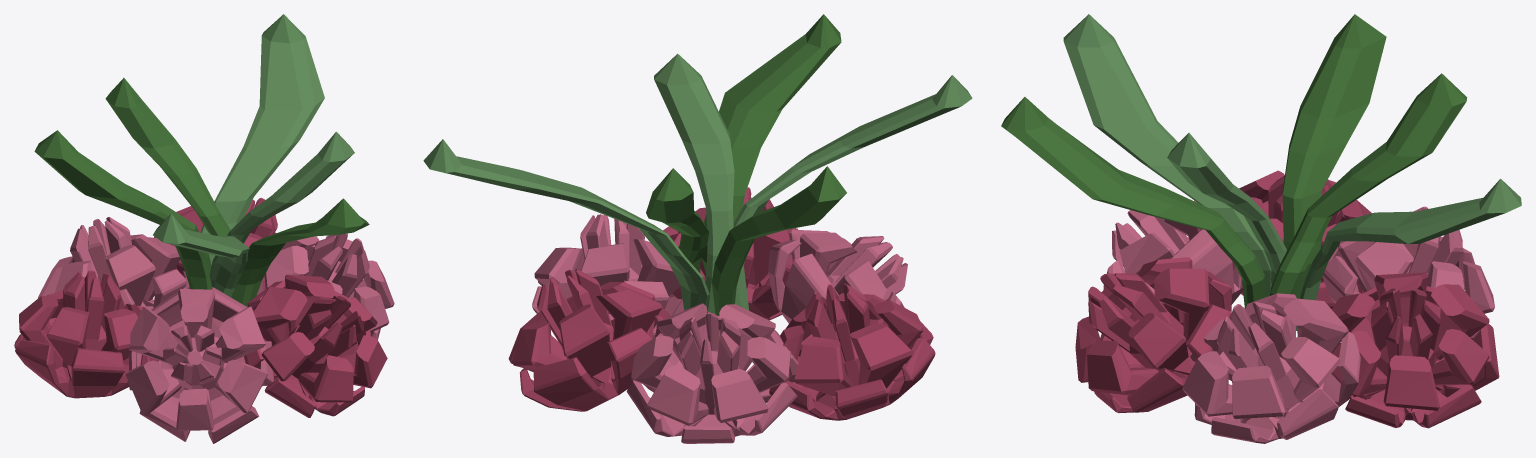
File: Spring_Flower_1.fbx
3 views of the same model, side by side, from view 1: azimuth 30°, elevation 25°; view 2: azimuth 150°, elevation 25°; view 3: azimuth 270°, elevation 25° (orthographic). The views are drawn at different scales.
Parts seen in each view (by area): view 1: Flower1; view 2: Flower1; view 3: Flower1.
Part boxes in pixels (x1,y1,x2,y2): Flower1: (14, 14, 394, 443); Flower1: (423, 14, 972, 443); Flower1: (1001, 14, 1521, 443).
Bounding box in the file's own units: 235 × 159 × 249.
